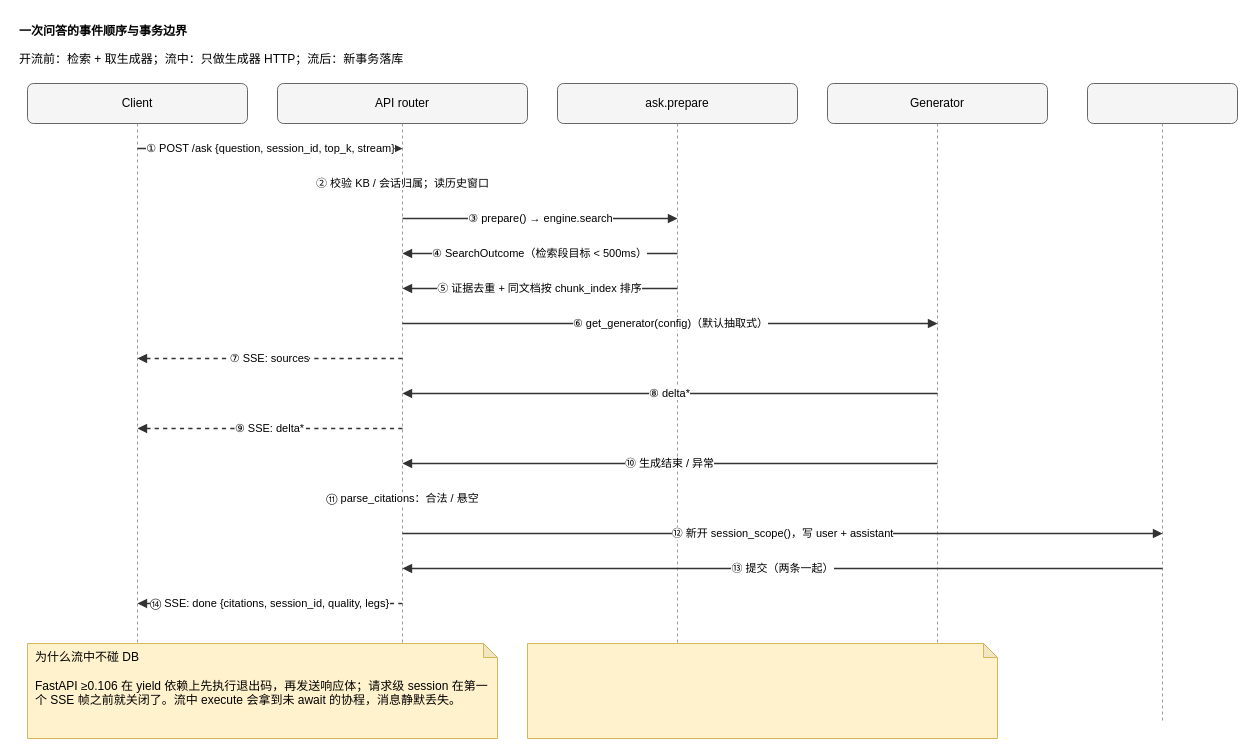
The diagram is 1255 pixels wide and 756 high, and some of its shapes have lost their labels. Each missing label, with the box of its shape:
PostgreSQL: (1086, 82, 1238, 124)
失败处理 外部生成器 401/超时/5xx → 降级抽取式，done.degraded 说明原因；证据质量 none 且非抽取式 → 直接拒答，不调模型。: (526, 642, 998, 738)
